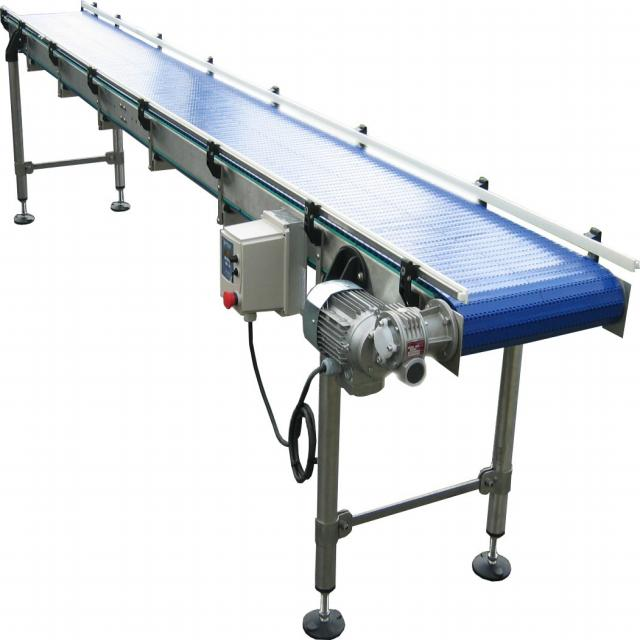Convoyeur: (0, 4, 640, 385)
